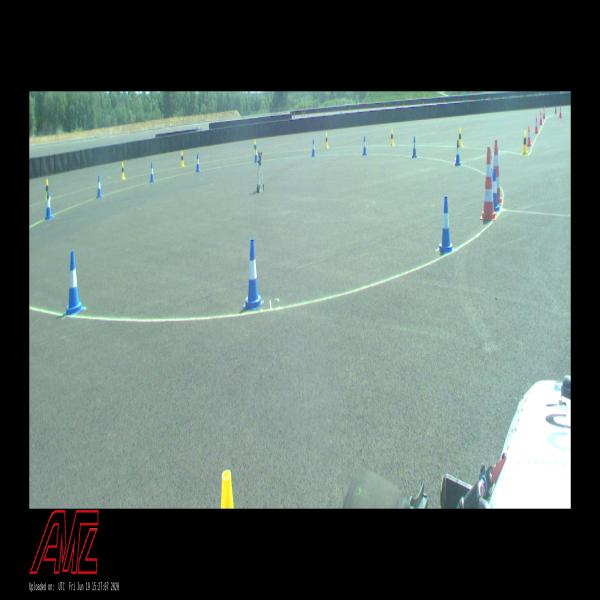blue_cone: (243, 239, 264, 310), (64, 250, 84, 315), (436, 196, 454, 254), (492, 168, 500, 212), (45, 192, 54, 219), (454, 140, 462, 166), (96, 175, 103, 198), (149, 162, 155, 182), (412, 136, 417, 158), (362, 136, 367, 155), (196, 153, 200, 172), (254, 145, 258, 162), (312, 139, 315, 156)
large_orange_cone: (480, 146, 497, 222), (494, 140, 502, 204)
orange_cone: (527, 125, 532, 146), (534, 117, 538, 134), (539, 111, 542, 125), (559, 105, 562, 118), (542, 106, 545, 119)
yellow_cone: (220, 470, 234, 508), (521, 130, 528, 156), (45, 179, 51, 200), (121, 162, 126, 179), (324, 132, 329, 148), (459, 128, 463, 148), (180, 151, 185, 167), (390, 129, 394, 146), (253, 140, 256, 155)
